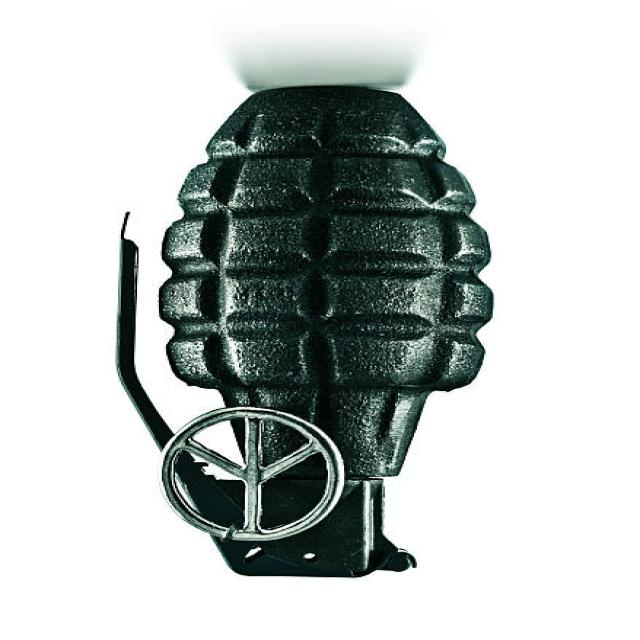grenade: (107, 81, 506, 585)
